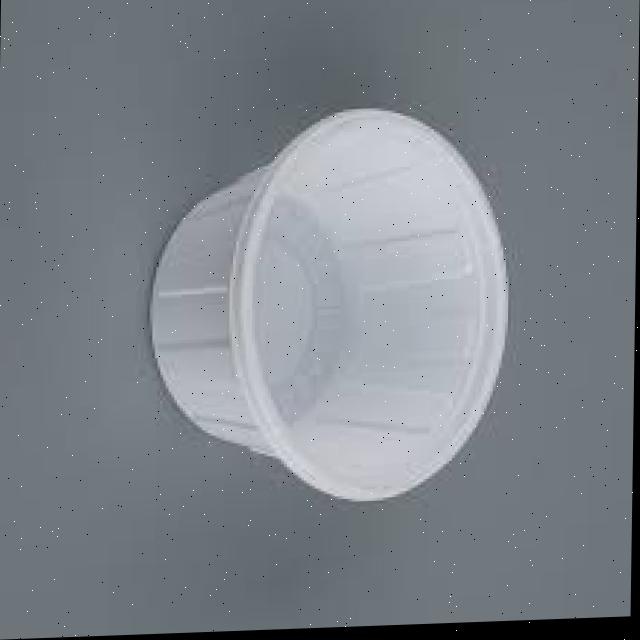disposable: (128, 103, 533, 530)
